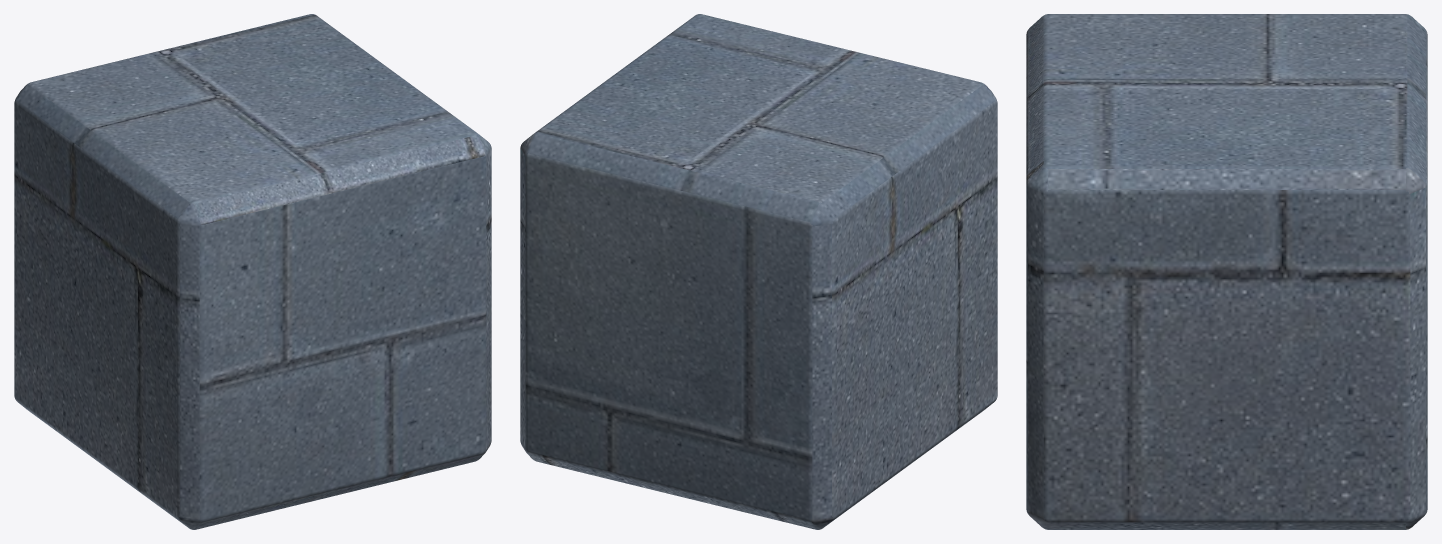
File: novobloco.gltf
The picture shows the model from 3 angles, left to right: view 1: azimuth 30°, elevation 25°; view 2: azimuth 150°, elevation 25°; view 3: azimuth 270°, elevation 25°; orthographic projection. The views are drawn at different scales.
Parts seen in each view (by area): view 1: Cube; view 2: Cube; view 3: Cube.
Boxes of the visible parts, x1,y1,x2,y2 form: Cube: (14, 14, 491, 529); Cube: (520, 14, 997, 529); Cube: (1026, 14, 1427, 529).
Size of the model in its own units: 1 by 1 by 1.
1 material, 1 textured.
